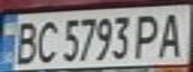3: (112, 12, 136, 61)
5: (57, 15, 81, 63)
7: (78, 15, 96, 62)
9: (93, 14, 115, 62)
A: (154, 8, 190, 59)
B: (9, 17, 42, 65)
C: (33, 17, 60, 64)
P: (130, 10, 163, 60)
